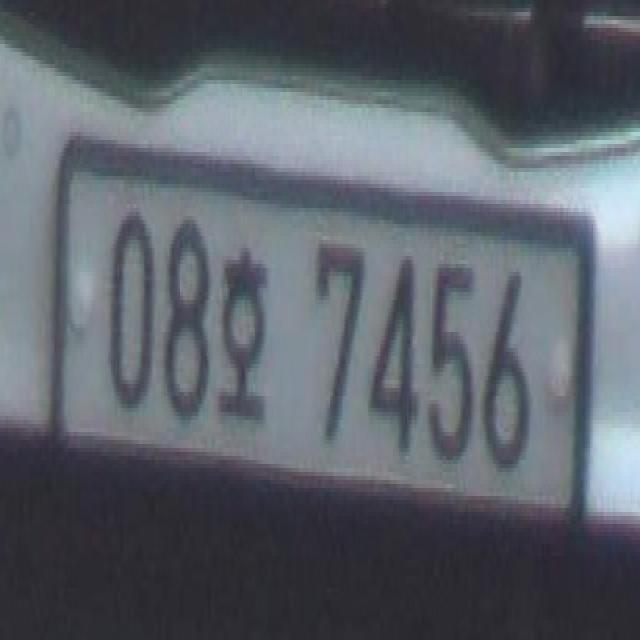0: (107, 199, 157, 429)
4: (369, 251, 422, 473)
5: (426, 252, 479, 470)
6: (480, 244, 536, 486)
7: (307, 234, 365, 458)
8: (164, 199, 213, 435)
ho: (215, 235, 272, 450)
license_plate: (40, 128, 602, 540)
